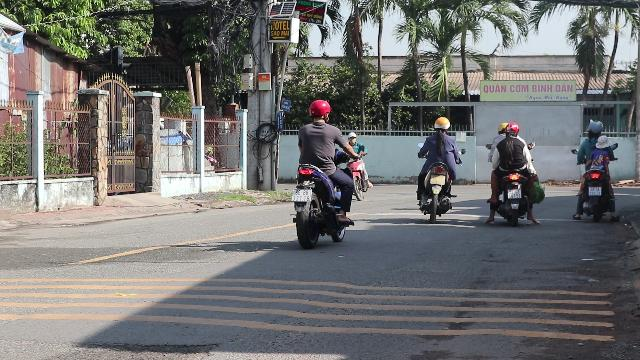helmet: (307, 100, 331, 124), (432, 115, 452, 134), (505, 122, 519, 138), (497, 121, 508, 135)
licenseplate: (292, 189, 312, 201), (430, 175, 446, 185), (507, 190, 521, 198)
motorcyclist: (288, 99, 354, 247), (483, 121, 543, 226), (412, 115, 460, 221)
